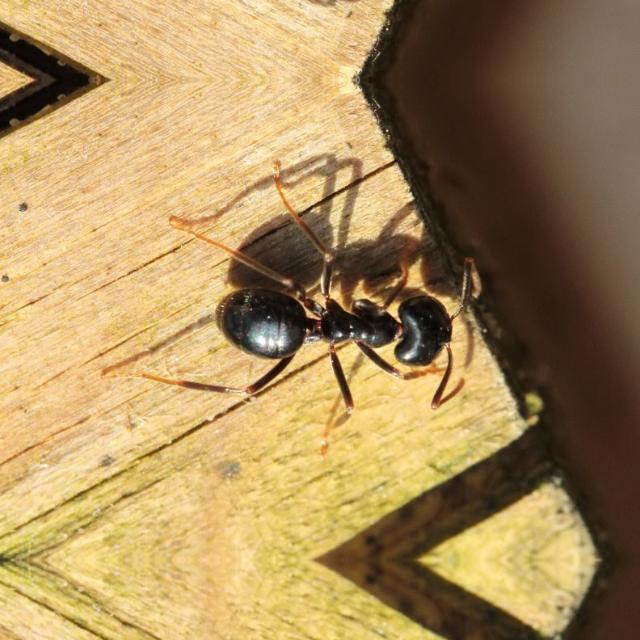Lasius: (205, 232, 470, 416)
